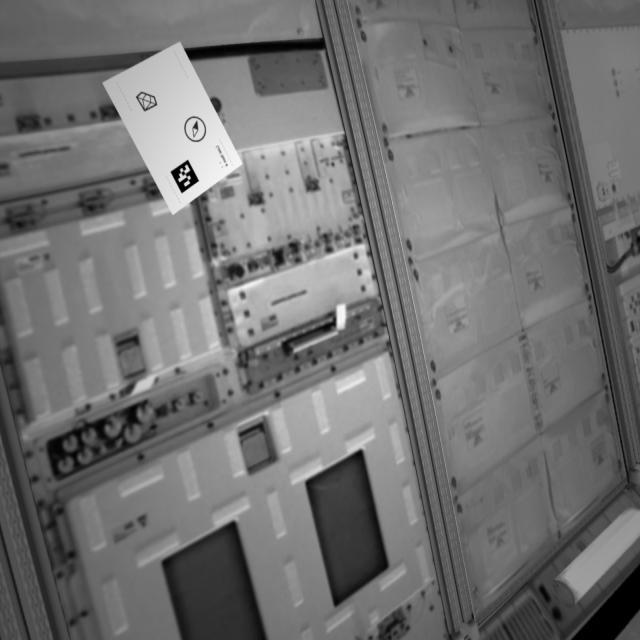compass: (184, 109, 210, 149)
diamond: (133, 86, 162, 118)
